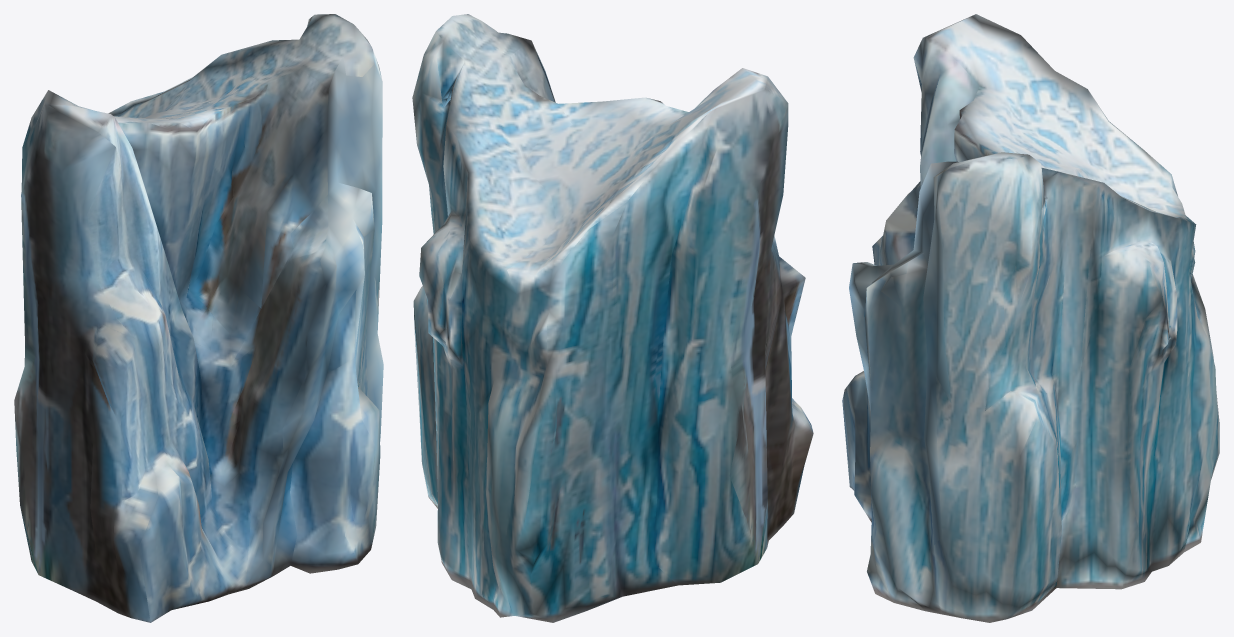
The model's file is IceRegion_Wall.fbx.
3 renders of one model, left to right at view 1: azimuth 30°, elevation 25°; view 2: azimuth 150°, elevation 25°; view 3: azimuth 270°, elevation 25°, orthographic. The views are drawn at different scales.
Parts seen in each view (by area): view 1: IceRegion_Wall_Mesh; view 2: IceRegion_Wall_Mesh; view 3: IceRegion_Wall_Mesh.
Boxes of the visible parts, x1,y1,x2,y2 form: IceRegion_Wall_Mesh: [14, 14, 383, 622]; IceRegion_Wall_Mesh: [412, 14, 813, 622]; IceRegion_Wall_Mesh: [842, 14, 1219, 622].
Size of the model in its own units: 6 by 8.27 by 6.07.
Materials: 1 (1 with a texture image).
